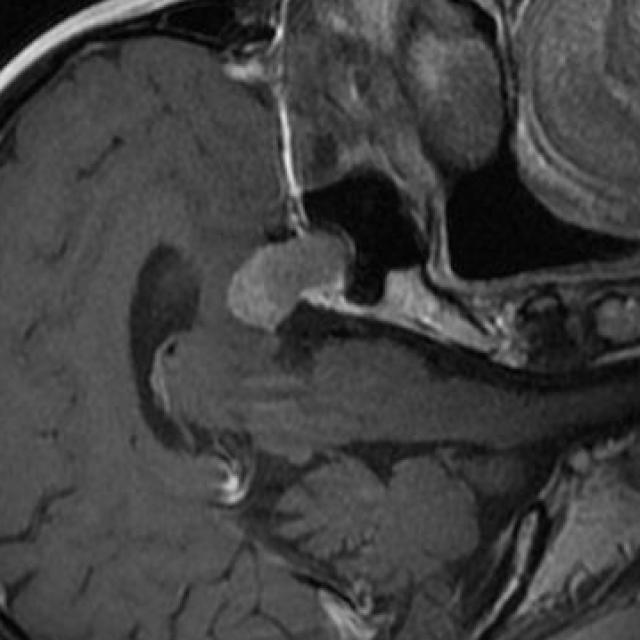pituitary: (228, 235, 346, 328)
